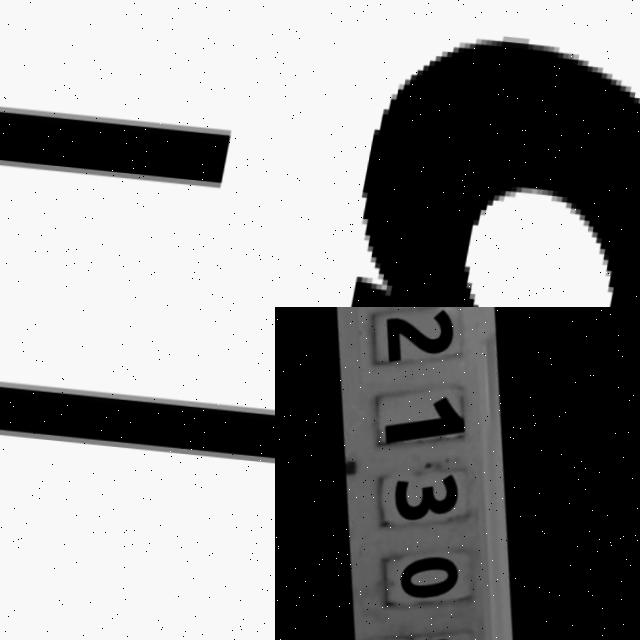0: (391, 536, 492, 611)
1: (379, 372, 488, 453)
2: (373, 307, 479, 372)
3: (383, 455, 491, 533)
9: (399, 619, 496, 640)
A: (294, 12, 640, 307)
I: (0, 87, 275, 208)
L: (0, 343, 275, 502)
